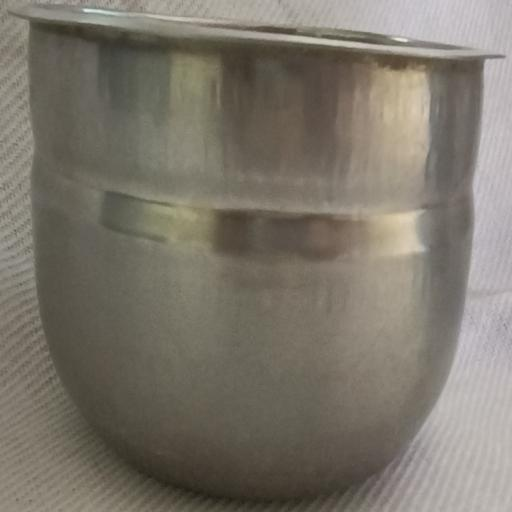vessel: (14, 5, 492, 499)
